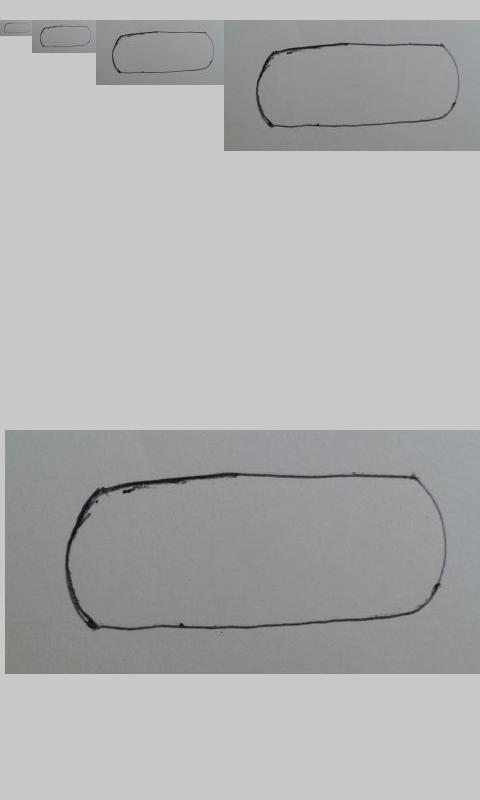chip: (63, 470, 449, 632), (255, 42, 461, 129), (111, 31, 215, 74), (39, 25, 92, 48), (3, 22, 31, 34)
